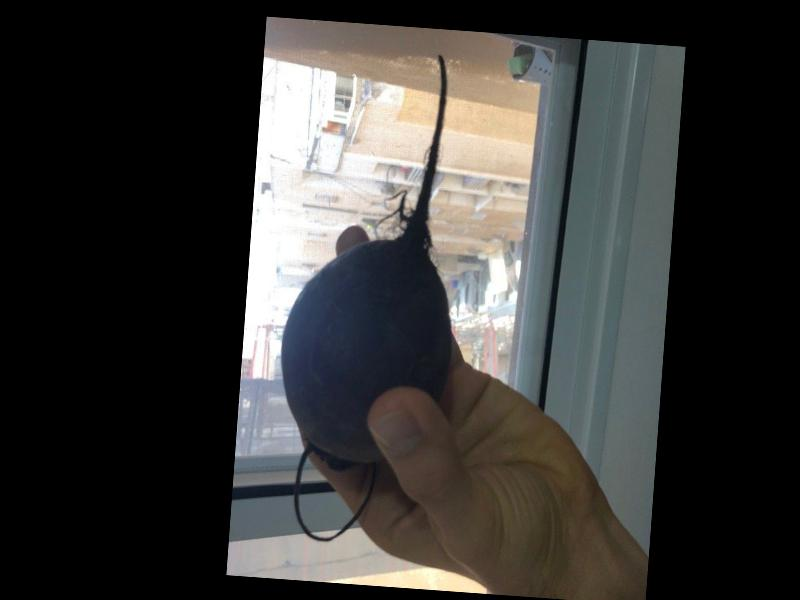Beet: (267, 43, 472, 547)
